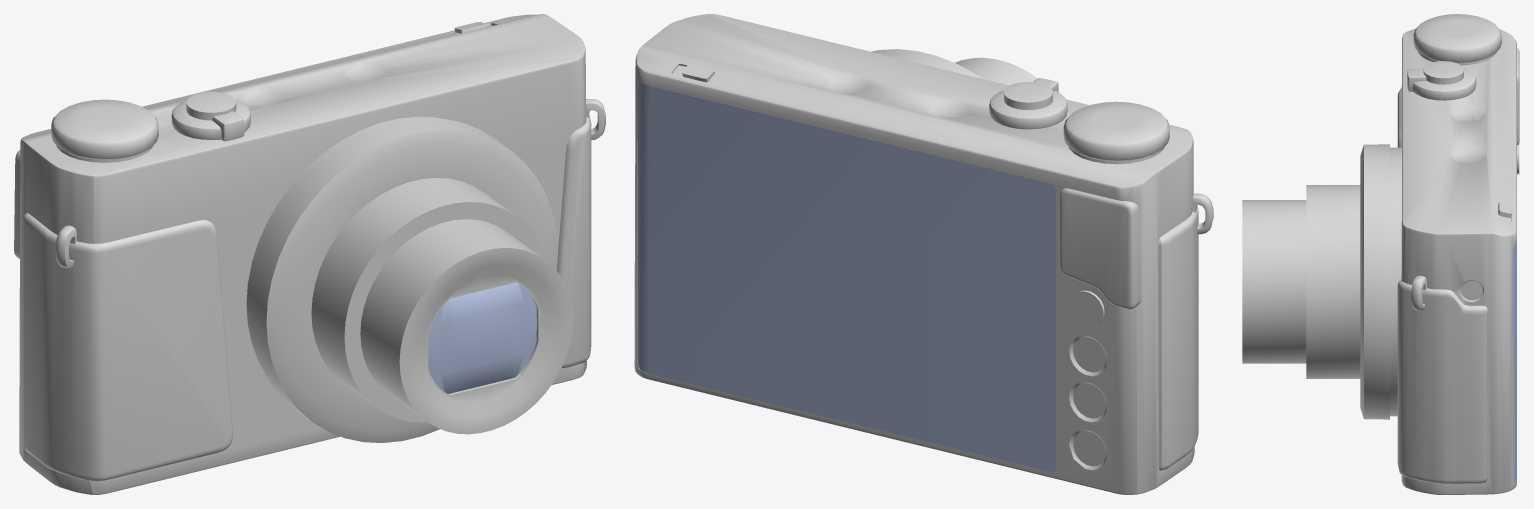
Rendered from Digital Camera1.fbx.
The picture shows the model from 3 angles, left to right: view 1: azimuth 30°, elevation 25°; view 2: azimuth 150°, elevation 25°; view 3: azimuth 270°, elevation 25°; orthographic projection. The views are drawn at different scales.
Parts seen in each view (by area): view 1: Digital_Camera; view 2: Digital_Camera; view 3: Digital_Camera.
Boxes of the visible parts, box(x1,y1,x2,y2) form: Digital_Camera: box(14, 14, 605, 494); Digital_Camera: box(634, 14, 1213, 494); Digital_Camera: box(1242, 14, 1519, 494).
Size of what is drawn, in the model's own units: 10.08 by 6.05 by 5.4.
